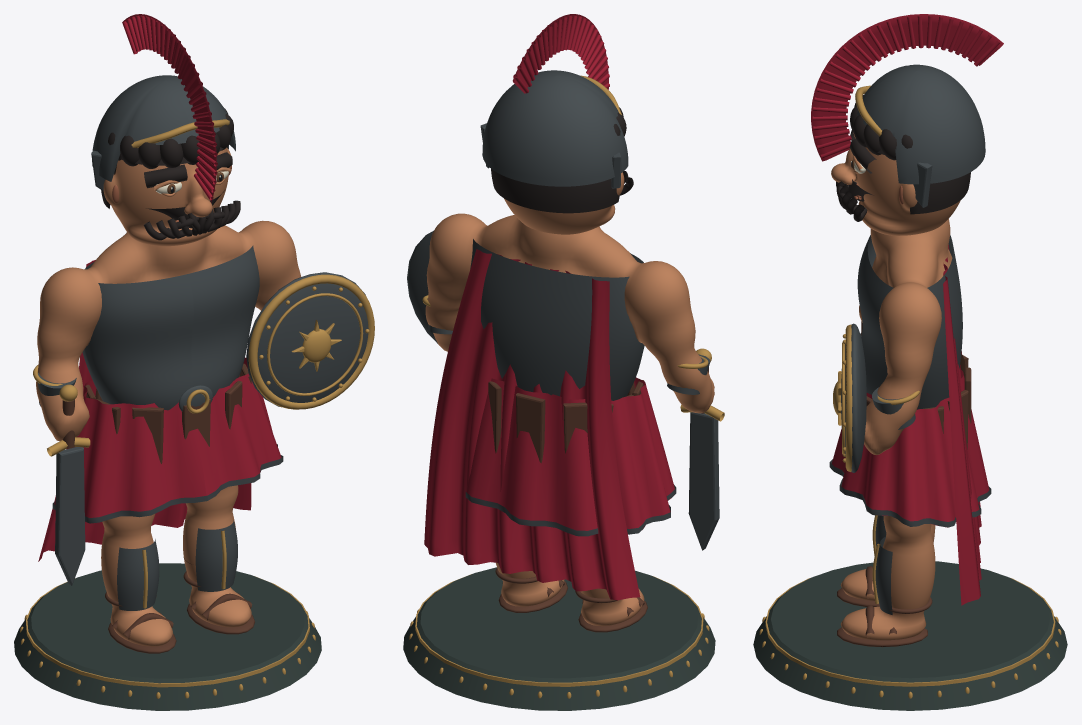
File: ares-f4450475cdf3.glb
The picture shows the model from 3 angles, left to right: view 1: azimuth 30°, elevation 25°; view 2: azimuth 150°, elevation 25°; view 3: azimuth 270°, elevation 25°; orthographic projection.
Parts seen in each view (by area): view 1: Body Metal, Body Basalt, Body Skin, Body Signature cloth, Body Engraved metal, Head Metal, Head Hair, Head Skin, Body Leather, Head Signature cloth, Cape Signature cloth, Head Engraved metal; view 2: Cape Signature cloth, Body Basalt, Body Metal, Body Skin, Body Signature cloth, Head Metal, Body Leather, Head Signature cloth, Head Hair, Body Engraved metal, Head Skin; view 3: Body Basalt, Body Skin, Head Metal, Body Metal, Body Signature cloth, Head Signature cloth, Cape Signature cloth, Head Skin, Body Engraved metal, Head Hair, Body Leather.
Boxes of the visible parts, x1=… form: Body Metal: x1=38, y1=245, x2=368, y2=610; Body Basalt: x1=14, y1=563, x2=321, y2=710; Body Skin: x1=36, y1=220, x2=301, y2=646; Body Signature cloth: x1=54, y1=357, x2=281, y2=517; Body Engraved metal: x1=20, y1=274, x2=374, y2=698; Head Metal: x1=91, y1=75, x2=235, y2=191; Head Hair: x1=101, y1=108, x2=240, y2=240; Head Skin: x1=103, y1=147, x2=231, y2=246; Body Leather: x1=62, y1=363, x2=254, y2=653; Head Signature cloth: x1=122, y1=14, x2=217, y2=202; Cape Signature cloth: x1=38, y1=260, x2=251, y2=561; Head Engraved metal: x1=131, y1=119, x2=229, y2=147; Cape Signature cloth: x1=424, y1=249, x2=640, y2=600; Body Basalt: x1=403, y1=567, x2=715, y2=710; Body Metal: x1=407, y1=230, x2=719, y2=550; Body Skin: x1=425, y1=213, x2=714, y2=626; Body Signature cloth: x1=466, y1=377, x2=674, y2=530; Head Metal: x1=480, y1=70, x2=628, y2=188; Body Leather: x1=488, y1=367, x2=708, y2=632; Head Signature cloth: x1=512, y1=14, x2=609, y2=93; Head Hair: x1=491, y1=107, x2=633, y2=213; Body Engraved metal: x1=409, y1=295, x2=724, y2=698; Head Skin: x1=504, y1=172, x2=624, y2=234; Body Basalt: x1=753, y1=561, x2=1067, y2=710; Body Skin: x1=840, y1=219, x2=952, y2=640; Head Metal: x1=857, y1=64, x2=985, y2=207; Body Metal: x1=829, y1=235, x2=991, y2=614; Body Signature cloth: x1=831, y1=370, x2=989, y2=527; Head Signature cloth: x1=811, y1=14, x2=1003, y2=161; Cape Signature cloth: x1=943, y1=245, x2=981, y2=605; Head Skin: x1=831, y1=133, x2=960, y2=235; Body Engraved metal: x1=759, y1=324, x2=1061, y2=698; Head Hair: x1=836, y1=95, x2=970, y2=221; Body Leather: x1=837, y1=321, x2=971, y2=647.
Size of the model in its own units: 2.15 by 3.98 by 1.8.
